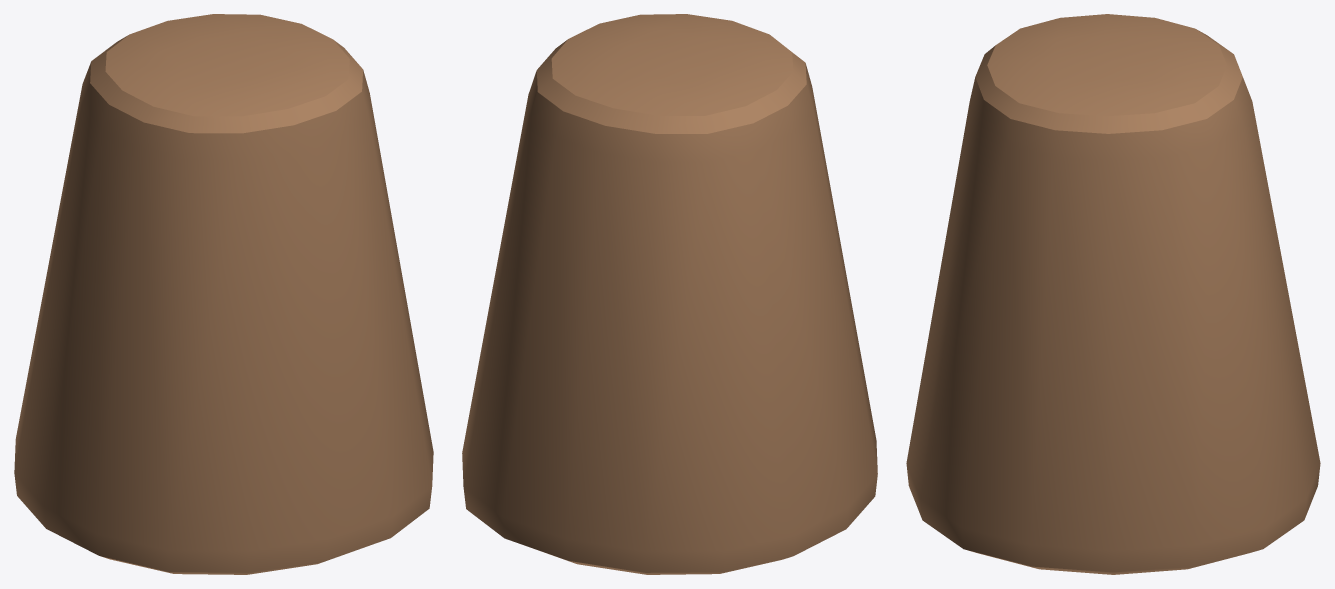
The model's file is RockPlatform_Tall_001.gltf.
3 renders of one model, left to right at view 1: azimuth 30°, elevation 25°; view 2: azimuth 150°, elevation 25°; view 3: azimuth 270°, elevation 25°, orthographic.
Parts seen in each view (by area): view 1: RockPlatform_Tall.001; view 2: RockPlatform_Tall.001; view 3: RockPlatform_Tall.001.
Boxes of the visible parts, x1=… form: RockPlatform_Tall.001: x1=14, y1=14, x2=433, y2=574; RockPlatform_Tall.001: x1=462, y1=14, x2=877, y2=574; RockPlatform_Tall.001: x1=906, y1=14, x2=1320, y2=574.
Bounding box in the file's own units: 2.71 × 3.21 × 2.7.
